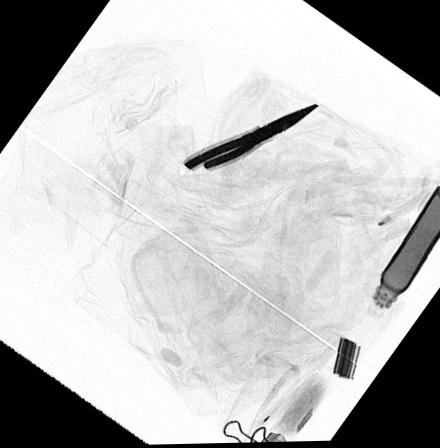Pliers: (180, 102, 320, 175)
